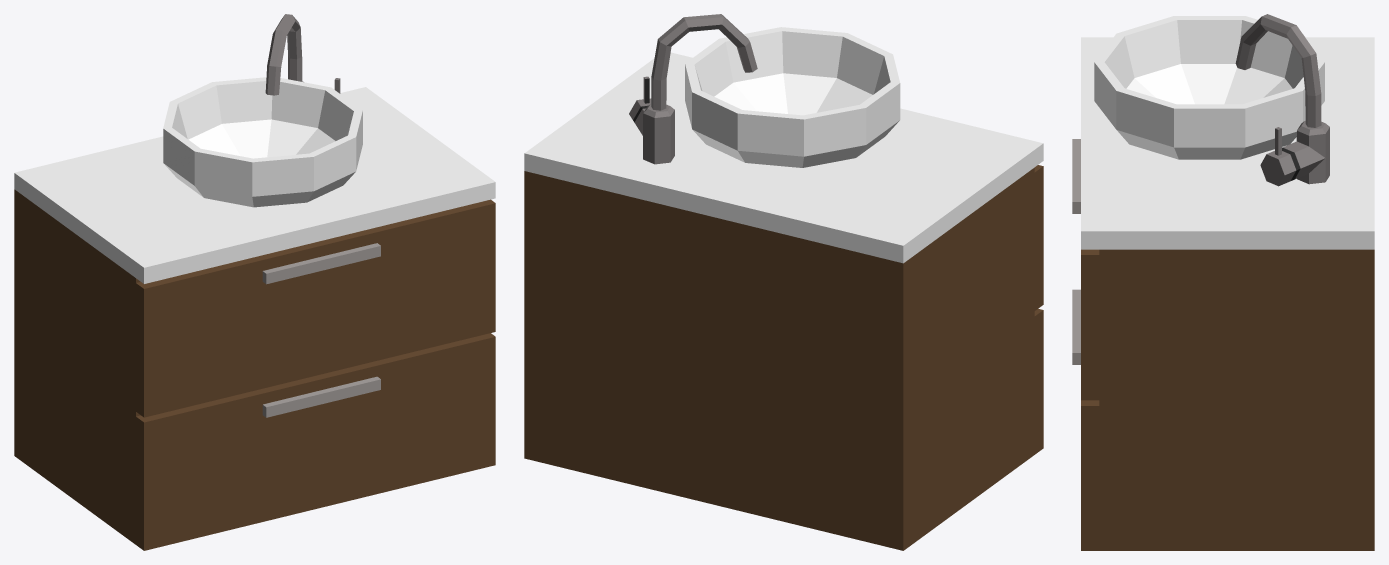
File: furniture_cabinet-bathroom-modern-sink.fbx
The picture shows the model from 3 angles, left to right: view 1: azimuth 30°, elevation 25°; view 2: azimuth 150°, elevation 25°; view 3: azimuth 270°, elevation 25°; orthographic projection. The views are drawn at different scales.
Visible parts, largest first — view 1: furniture_cabinet_bathroom_modern_sink; view 2: furniture_cabinet_bathroom_modern_sink; view 3: furniture_cabinet_bathroom_modern_sink.
Part boxes in pixels (left/top/right/bottom): furniture_cabinet_bathroom_modern_sink: left=14, top=14, right=495, bottom=550; furniture_cabinet_bathroom_modern_sink: left=524, top=14, right=1043, bottom=550; furniture_cabinet_bathroom_modern_sink: left=1072, top=14, right=1374, bottom=550.
Size of the model in its own units: 134 by 149 by 88.23.
